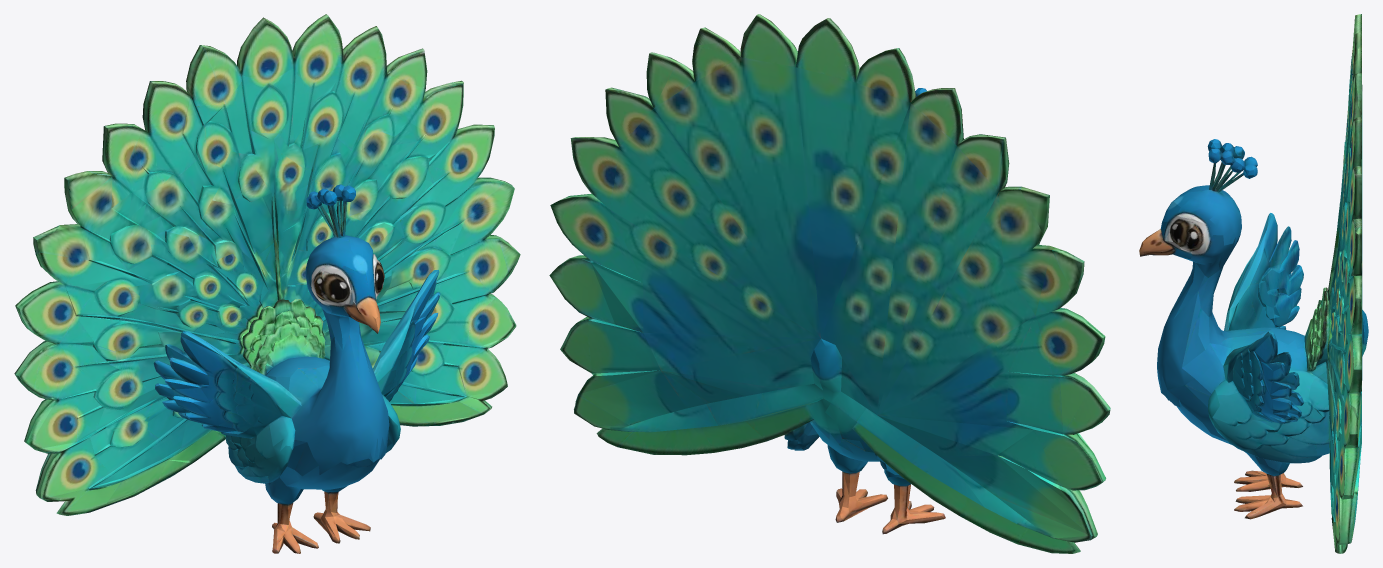
File: pet_sol.glb
3 renders of one model, left to right at view 1: azimuth 30°, elevation 25°; view 2: azimuth 150°, elevation 25°; view 3: azimuth 270°, elevation 25°, orthographic. The views are drawn at different scales.
Size of the model in its own units: 1.9 by 1.74 by 0.7783.
Materials: 1 (1 with a texture image).
